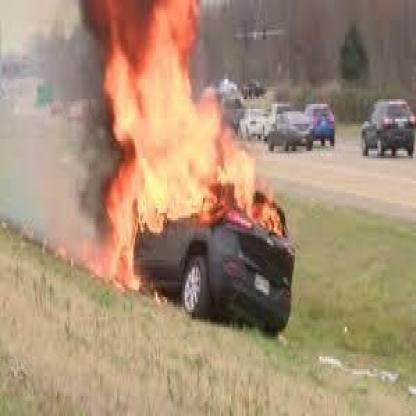fire: (105, 1, 284, 274)
smoke: (70, 4, 125, 226)
